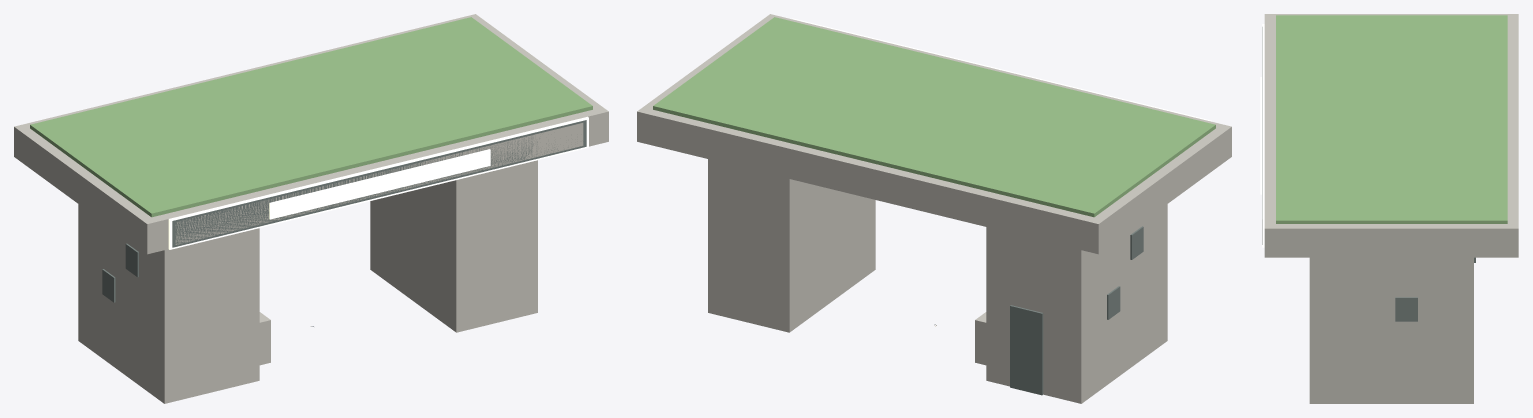
The model's file is EntranceGate.fbx.
3 renders of one model, left to right at view 1: azimuth 30°, elevation 25°; view 2: azimuth 150°, elevation 25°; view 3: azimuth 270°, elevation 25°, orthographic. The views are drawn at different scales.
Parts seen in each view (by area): view 1: Canopy_LivingRoof, Pylon_Left_Concrete, Pylon_Right_Concrete, Canopy_Slab, Sign_BackingPlate, Sign_Face_Plate, Sign_Emblem_Block, Sign_Frame_Gold, TicketBooth_Plinth; view 2: Canopy_LivingRoof, Canopy_Slab, Pylon_Left_Concrete, Pylon_Right_Concrete, Door_TicketPavilion, Sign_Frame_Gold, TicketBooth_Plinth; view 3: Canopy_LivingRoof, Pylon_Right_Concrete, Canopy_Slab, Sign_Frame_Gold, Dino_Footprint_R1.
Part boxes in pixels (x1=…): Canopy_LivingRoof: x1=30, y1=17, x2=592, y2=217; Pylon_Left_Concrete: x1=78, y1=204, x2=259, y2=403; Pylon_Right_Concrete: x1=370, y1=160, x2=537, y2=332; Canopy_Slab: x1=14, y1=14, x2=608, y2=254; Sign_BackingPlate: x1=172, y1=120, x2=586, y2=247; Sign_Face_Plate: x1=175, y1=123, x2=583, y2=244; Sign_Emblem_Block: x1=269, y1=149, x2=490, y2=219; Sign_Frame_Gold: x1=168, y1=116, x2=588, y2=249; TicketBooth_Plinth: x1=259, y1=312, x2=270, y2=365; Canopy_LivingRoof: x1=653, y1=17, x2=1215, y2=217; Canopy_Slab: x1=637, y1=14, x2=1231, y2=254; Pylon_Left_Concrete: x1=986, y1=204, x2=1167, y2=403; Pylon_Right_Concrete: x1=708, y1=159, x2=875, y2=332; Door_TicketPavilion: x1=1010, y1=305, x2=1043, y2=395; Sign_Frame_Gold: x1=792, y1=18, x2=1211, y2=121; TicketBooth_Plinth: x1=975, y1=312, x2=986, y2=365; Canopy_LivingRoof: x1=1276, y1=15, x2=1507, y2=223; Pylon_Right_Concrete: x1=1309, y1=257, x2=1473, y2=403; Canopy_Slab: x1=1264, y1=14, x2=1518, y2=257; Sign_Frame_Gold: x1=1262, y1=24, x2=1264, y2=247; Dino_Footprint_R1: x1=1395, y1=297, x2=1417, y2=321.
Size of the model in its own units: 1360 by 594 by 692.
